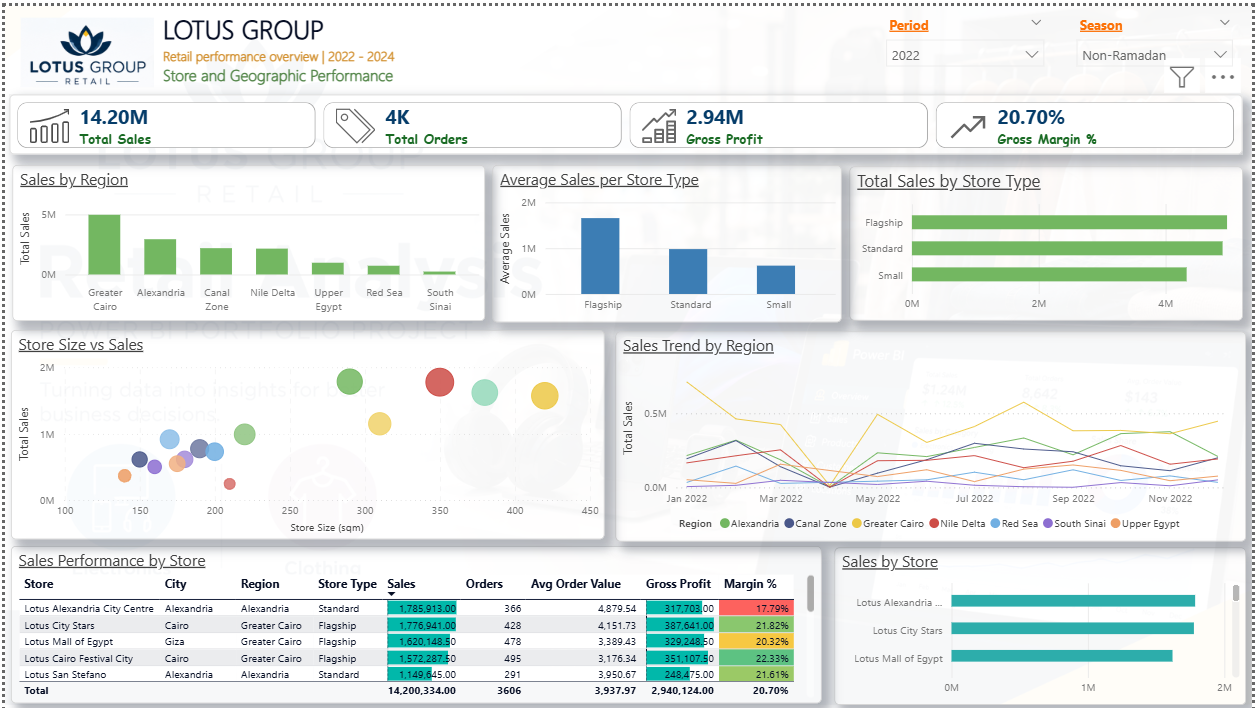

The dashboard page shown, as its layout file describes it:
{"tool":"powerbi","page":{"name":"Store and Geographic Performance","canvas":[1280,720],"ordinal":2},"visuals":[{"type":"textbox","box":[5.3,0,309.3,95.6],"z":0},{"type":"slicer","fields":{"Values":["dim_date.full_date.Variation.Date Hierarchy.Year","dim_date.full_date.Variation.Date Hierarchy.Quarter"]},"box":[893.4,4.5,181.7,63.6],"z":1000},{"type":"cardVisual","fields":{"Data":["_Measures.Total Sales","_Measures.Total Orders","_Measures.Gross Profit","_Measures.Gross Margin %"]},"box":[4.6,91.1,1264.6,61.1],"z":2000},{"type":"clusteredColumnChart","title":"Sales by Region","fields":{"Category":["dim_stores.region"],"Y":["_Measures.Total Sales"]},"box":[7,163.8,484.9,160.3],"z":3000},{"type":"clusteredBarChart","title":"Total Sales by Store Type","fields":{"Category":["dim_stores.store_type"],"Y":["_Measures.Total Sales"]},"box":[865.4,164.4,403.2,158.2],"z":4000},{"type":"clusteredBarChart","title":"Sales by Store","fields":{"Category":["dim_stores.store_name"],"Y":["_Measures.Total Sales"]},"box":[851.4,555.2,421.8,161.3],"z":5000},{"type":"clusteredColumnChart","title":"Average Sales per Store Type","fields":{"Category":["dim_stores.store_type"],"Y":["_Measures.Sales per Store"]},"box":[499.4,162.8,358.3,161.3],"z":6000},{"type":"tableEx","title":"Sales Performance by Store","fields":{"Values":["dim_stores.store_name","dim_stores.city","dim_stores.region","dim_stores.store_type","_Measures.Total Sales","_Measures.Total Orders","_Measures.Average Order Value","_Measures.Gross Profit","_Measures.Gross Margin %","_Measures.Sales per Store"]},"box":[5.8,554.5,831.2,161.4],"z":7000},{"type":"lineChart","title":"Sales Trend by Region","fields":{"Y":["_Measures.Total Sales"],"Series":["dim_stores.region"],"Category":["dim_date.full_date.Variation.Date Hierarchy.Year","dim_date.full_date.Variation.Date Hierarchy.Quarter","dim_date.full_date.Variation.Date Hierarchy.Month"]},"box":[626.6,333.4,646.7,215.6],"z":8000},{"type":"scatterChart","title":"Store Size vs Sales","fields":{"X":["dim_stores.size_sqm"],"Y":["_Measures.Total Sales"],"Size":["_Measures.Gross Profit"],"Series":["dim_stores.store_name"]},"box":[5.8,332,608.7,214.4],"z":9000},{"type":"slicer","fields":{"Values":["dim_date.Period Type"]},"box":[1088.7,4.7,179.9,63.6],"z":9001}]}

Visuals, with their boxes in screenshot pixels (x1, y1, x2, y2), scaled from the page's 1280x720 canvas onto the 1255x708 screenshot:
textbox: BBox(5, 0, 308, 94)
slicer - dim_date.full_date.Variation.Date Hierarchy.Year x dim_date.full_date.Variation.Date Hierarchy.Quarter: BBox(876, 4, 1054, 67)
cardVisual - _Measures.Total Sales x _Measures.Total Orders: BBox(5, 90, 1244, 150)
"Sales by Region" clusteredColumnChart: BBox(7, 161, 482, 319)
"Total Sales by Store Type" clusteredBarChart: BBox(848, 162, 1244, 317)
"Sales by Store" clusteredBarChart: BBox(835, 546, 1248, 705)
"Average Sales per Store Type" clusteredColumnChart: BBox(490, 160, 841, 319)
"Sales Performance by Store" tableEx: BBox(6, 545, 821, 704)
"Sales Trend by Region" lineChart: BBox(614, 328, 1248, 540)
"Store Size vs Sales" scatterChart: BBox(6, 326, 602, 537)
slicer - dim_date.Period Type: BBox(1067, 5, 1244, 67)
